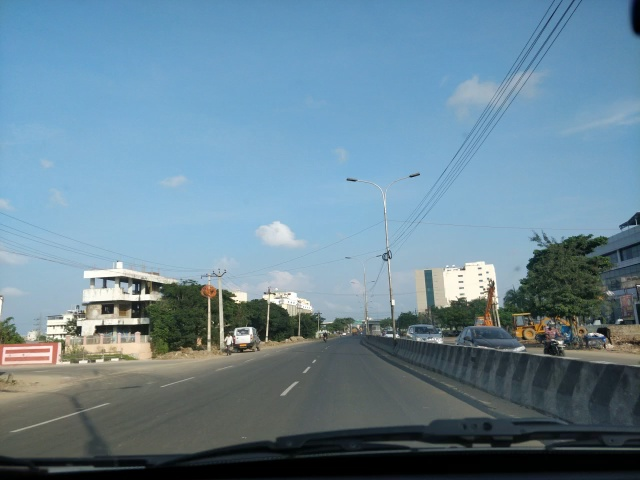car: (452, 327, 526, 372), (404, 324, 444, 357), (233, 326, 263, 354)
motorbike: (538, 322, 567, 370), (321, 330, 329, 345)
person: (223, 331, 234, 357)
tractor: (509, 311, 562, 343)
